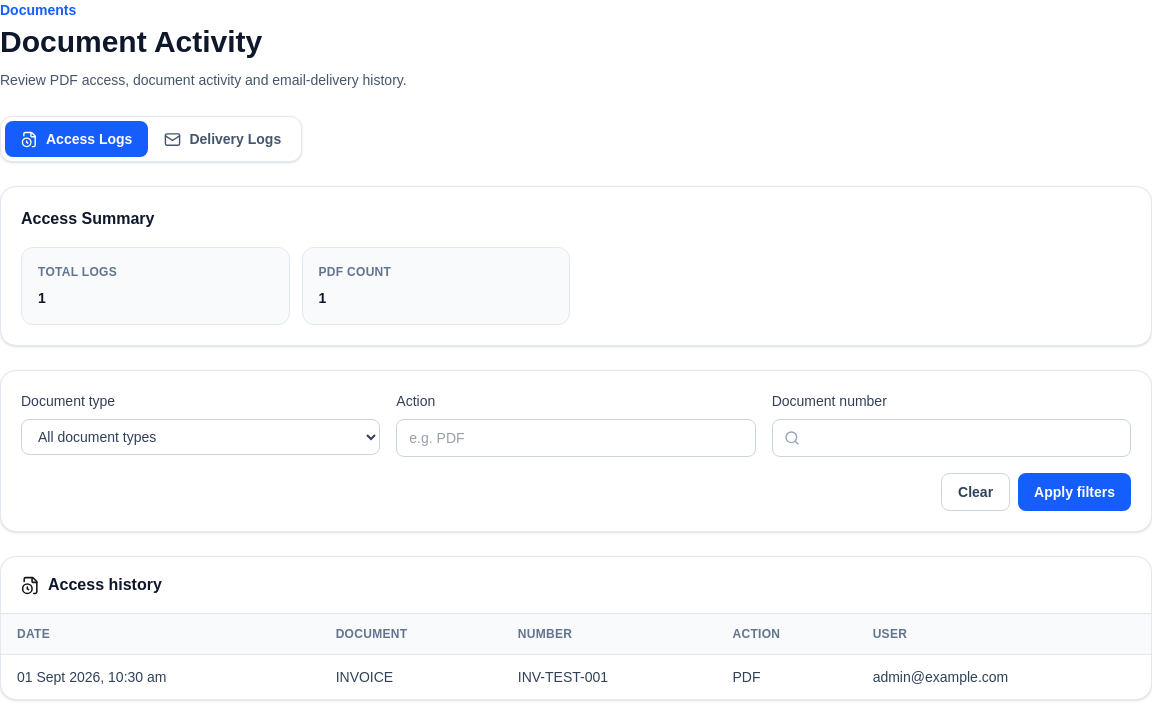
Test case: DocumentLogsPage › switches to delivery activity
This screenshot has width=1152, height=720.
Click the button "Delivery Logs": (223, 139) [148,121,297,157]
(page scrolled)
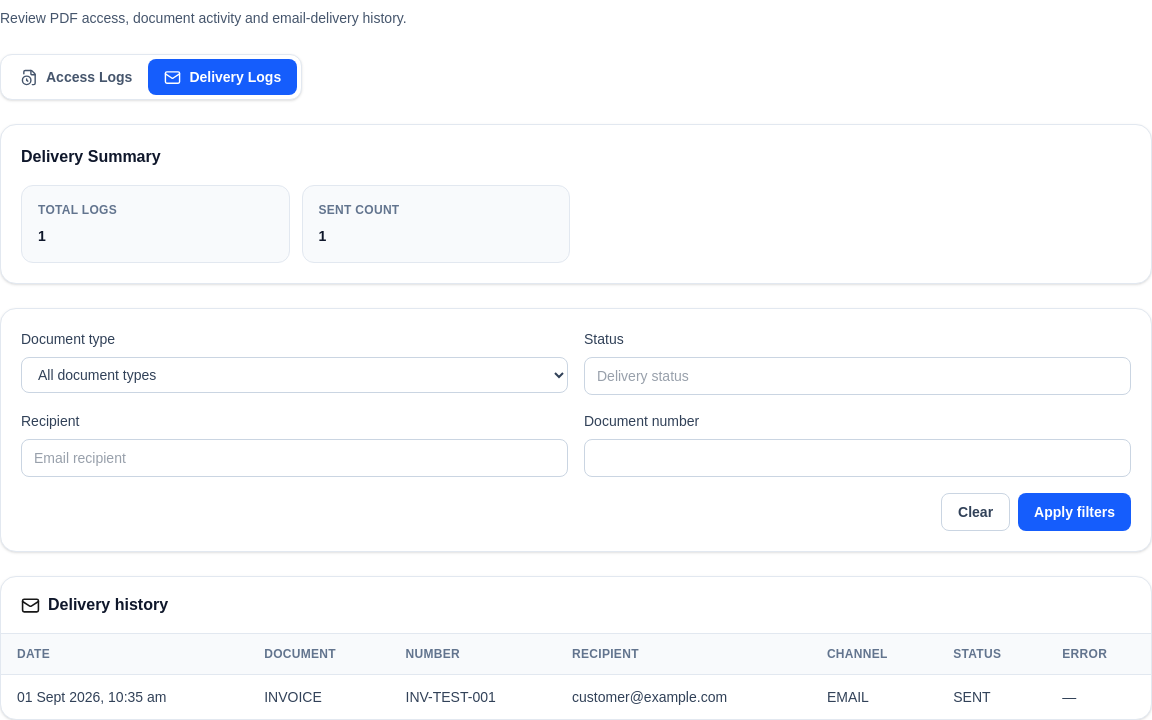
Expected: the heading "Delivery Summary" is shown, [21,148,161,165]
Expected: the heading "Delivery history" is shown, [48,593,168,617]
Expected: the text "customer@example.com" is shown, [556,674,811,719]
